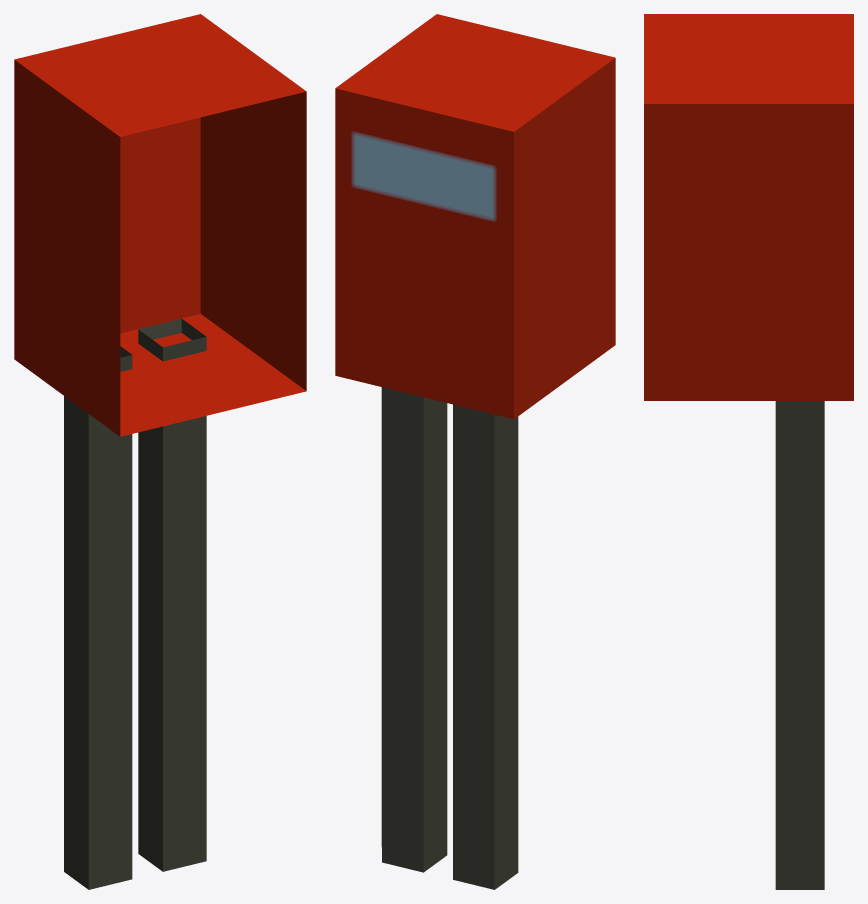
The model's file is PowerBox_05.fbx.
The picture shows the model from 3 angles, left to right: view 1: azimuth 30°, elevation 25°; view 2: azimuth 150°, elevation 25°; view 3: azimuth 270°, elevation 25°; orthographic projection. The views are drawn at different scales.
Parts seen in each view (by area): view 1: PowerBox_05; view 2: PowerBox_05; view 3: PowerBox_05.
Part boxes in pixels (x1,y1,x2,y2): PowerBox_05: (14,14,306,889); PowerBox_05: (335,14,615,889); PowerBox_05: (644,14,853,889).
Size of the model in its own units: 0.3573 by 1.48 by 0.3515.
